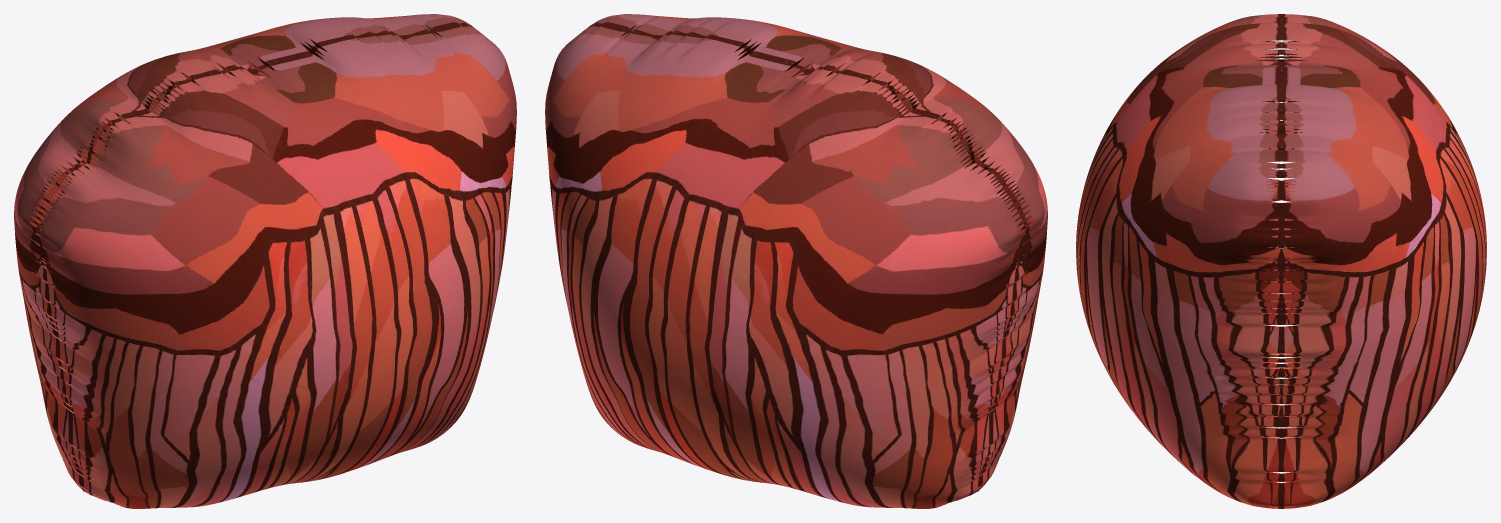
The model's file is north_terrace.glb.
3 renders of one model, left to right at view 1: azimuth 30°, elevation 25°; view 2: azimuth 150°, elevation 25°; view 3: azimuth 270°, elevation 25°, orthographic. The views are drawn at different scales.
Parts seen in each view (by area): view 1: north_terrace; view 2: north_terrace; view 3: north_terrace.
Boxes of the visible parts, bbox=[...] form: north_terrace: bbox=[14, 14, 516, 508]; north_terrace: bbox=[545, 14, 1047, 508]; north_terrace: bbox=[1076, 14, 1486, 508].
Size of the model in its own units: 0.9889 by 0.8395 by 0.8001.
1 material, 1 textured.
